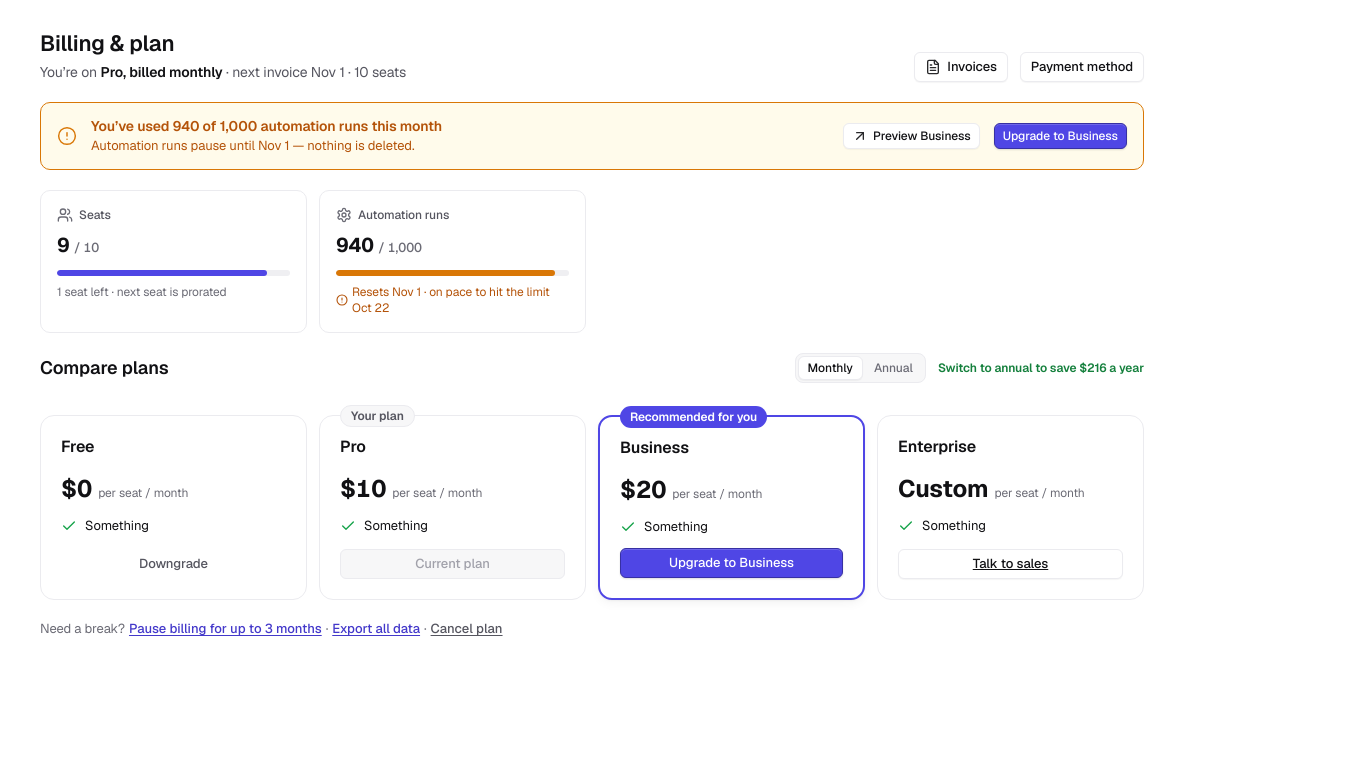
Test: BillingPage › toggles monthly/annual and shows the saving in money
Expected: the text "$20" is shown, [620,474,666,506]
Expected: the text "Switch to annual to save $216 a year" is shown, [938,360,1144,376]
What coordinates should you click on to do the following:
click the radio button labelled "Annual"
I would click on:
 (893, 368)
Its box is [864,356,923,380].
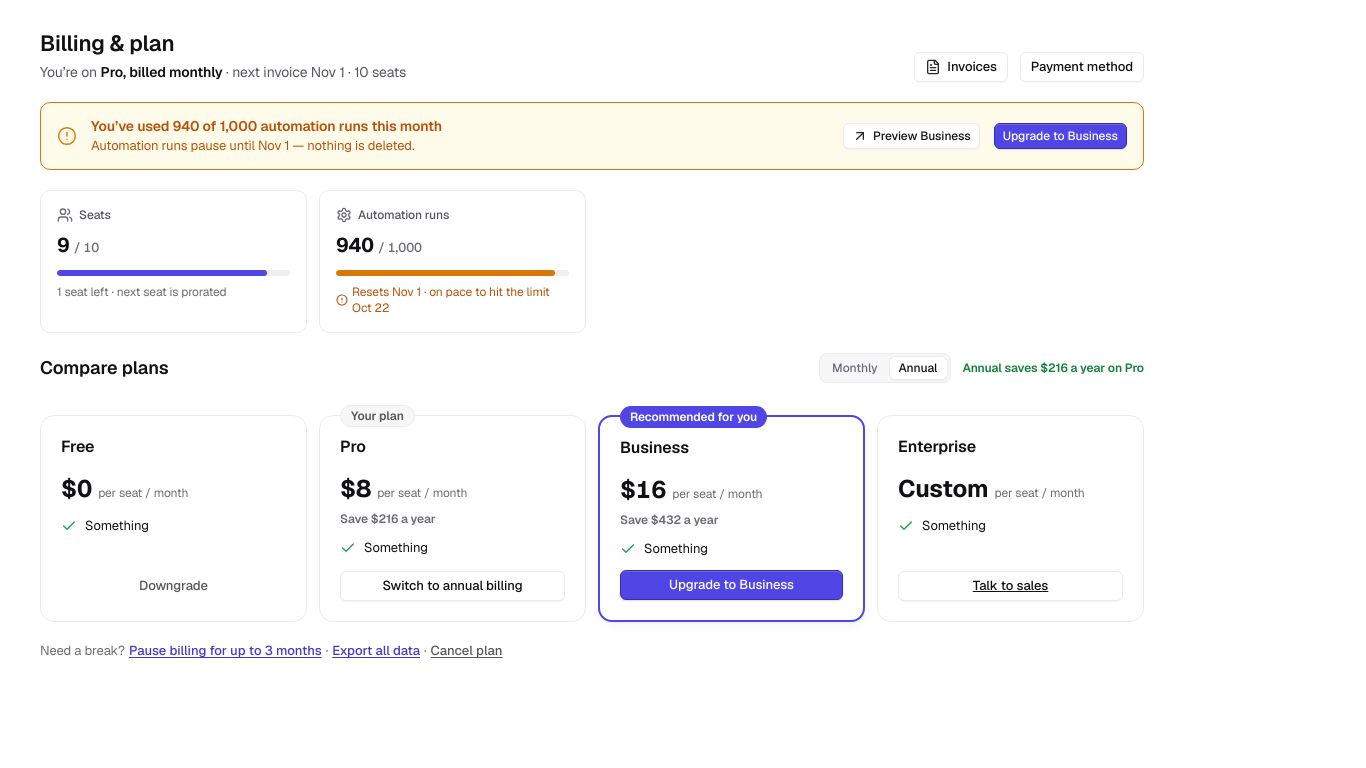
Expected: the text "$16" is shown, [620,474,666,506]
Expected: the text "Save $432 a year" is shown, [620,512,718,528]
Expected: the text "Annual saves $216 a year on Pro" is shown, [962,360,1144,376]
